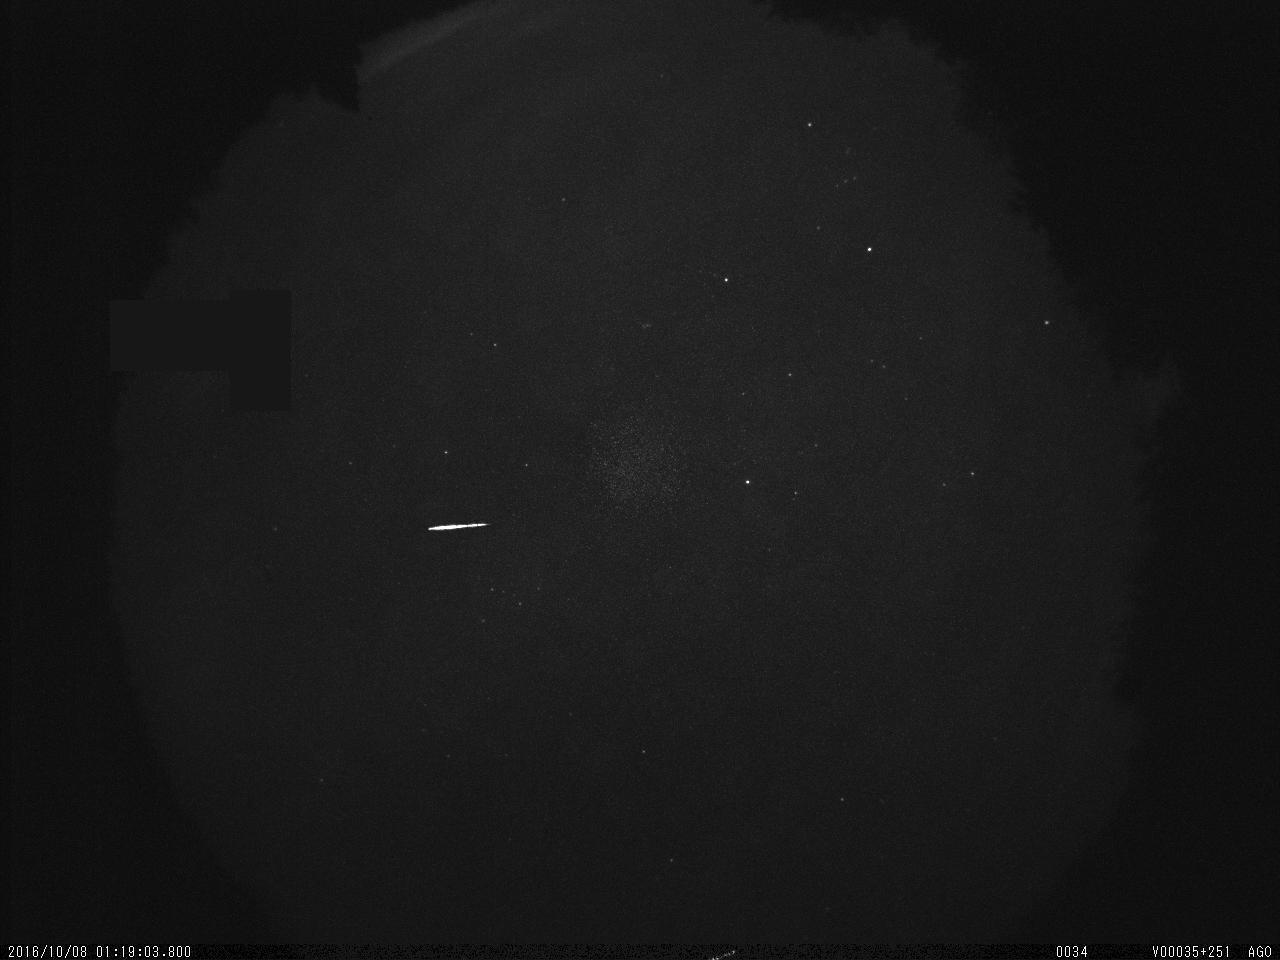meteor: (403, 507, 512, 544)
